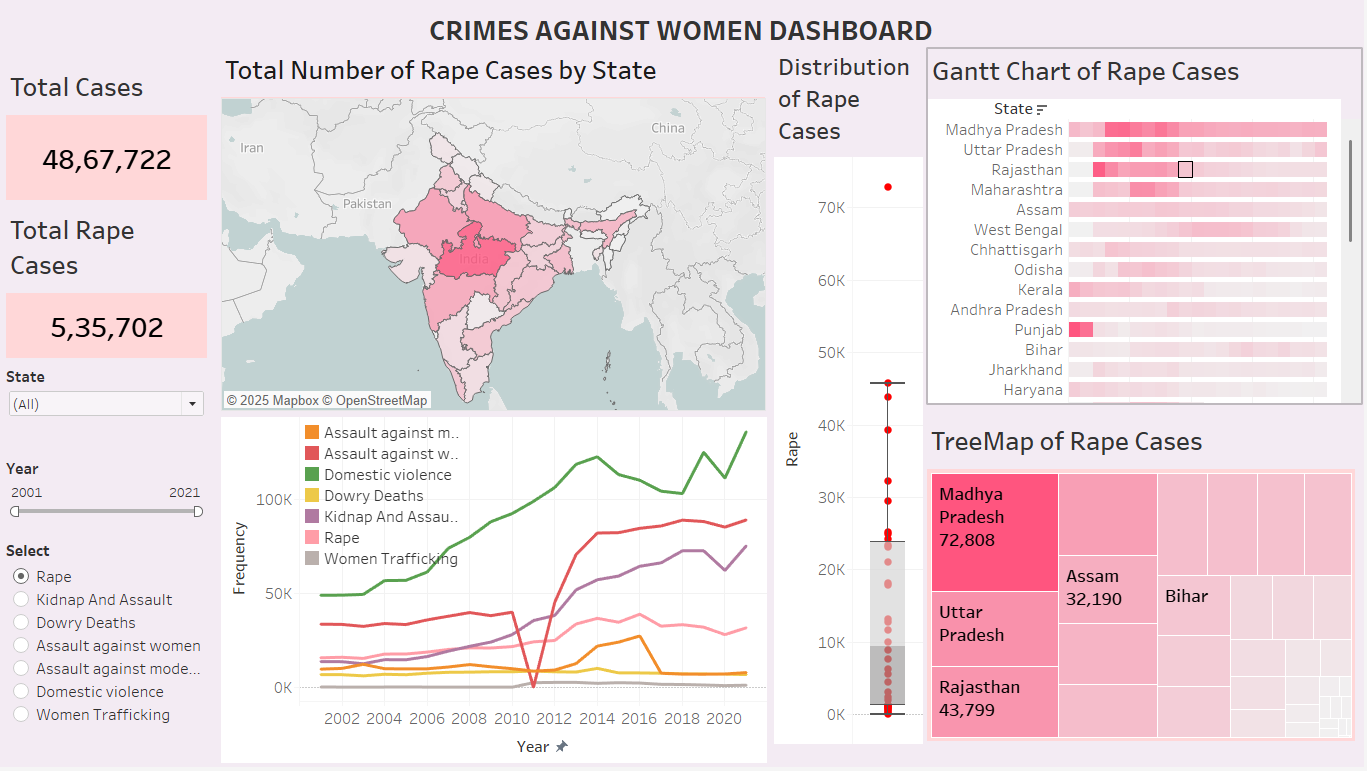

What the dashboard file says about the page in this screenshot:
{"tool":"tableau","page":{"name":"Dashboard","canvas":[1366,768],"ordinal":0},"visuals":[{"type":"title","box":[8,8,1350,45]},{"type":"worksheet","title":"Box-plot","mark":"Circle","rows":["Calculation_309341058194624512"],"box":[776,47,149,698]},{"type":"worksheet","title":"Map","mark":"Multipolygon","box":[223.2,48.7,544.9,362.8]},{"type":"worksheet","title":"Gantt","mark":"Bar","rows":["State"],"cols":["Year"],"box":[930,50,433,354]},{"type":"worksheet","title":"Total Cases","mark":"Automatic","box":[4.1,62.3,208.5,143]},{"type":"worksheet","title":"Total","mark":"Automatic","box":[4.1,205.3,208.5,158.2]},{"type":"filter","title":"Map","param":"[federated.076zh270x68xs910cbomj12wj3dl].[none:State:nk]","box":[4.1,363.5,208.5,92]},{"type":"worksheet","title":"Line Chart","mark":"Line","cols":["Year"],"box":[223.2,417.8,545.7,346.5]},{"type":"worksheet","title":"TreeMap","mark":"Automatic","box":[929.4,419.7,427.6,322.2]},{"type":"legend","title":"Line Chart","param":"[federated.076zh270x68xs910cbomj12wj3dl].[:Measure Names]","box":[303.8,423.3,162.1,156.1]},{"type":"filter","title":"Map","param":"[federated.076zh270x68xs910cbomj12wj3dl].[none:Year:qk]","box":[4.1,455.5,208.5,82]},{"type":"parameter","param":"[Parameters].[Parameter 1]","box":[4.1,537.5,208.5,226]}]}

Visuals, with their boxes in screenshot pixels (x1, y1, x2, y2), scaled from the page's 1366x768 canvas onto the 1367x771 screenshot:
title: bbox=(8, 8, 1359, 53)
"Box-plot" worksheet (Circle marks): bbox=(777, 47, 926, 748)
"Map" worksheet (Multipolygon marks): bbox=(223, 49, 769, 413)
"Gantt" worksheet (Bar marks): bbox=(931, 50, 1364, 406)
"Total Cases" worksheet: bbox=(4, 63, 213, 206)
"Total" worksheet: bbox=(4, 206, 213, 365)
"Map" filter: bbox=(4, 365, 213, 457)
"Line Chart" worksheet (Line marks): bbox=(223, 419, 769, 767)
"TreeMap" worksheet: bbox=(930, 421, 1358, 745)
"Line Chart" legend: bbox=(304, 425, 466, 582)
"Map" filter: bbox=(4, 457, 213, 540)
parameter: bbox=(4, 540, 213, 766)
